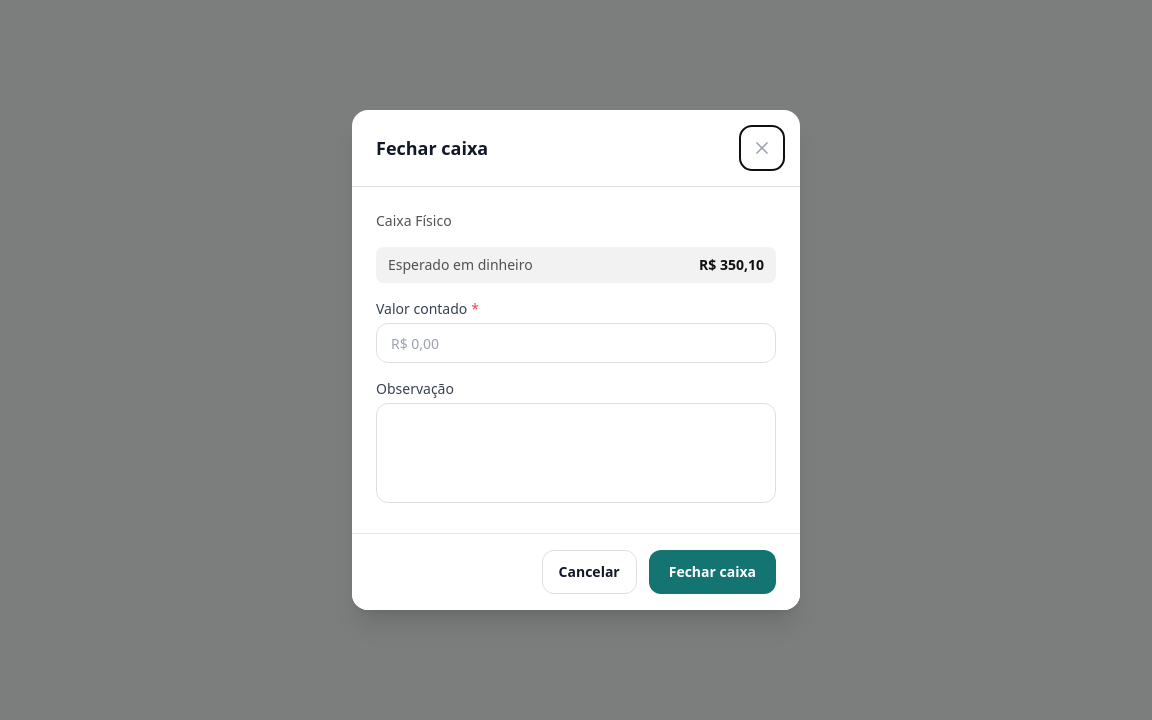
Test: CloseCashSessionModal › não fecha sem o valor contado
The image size is (1152, 720).
What coordinates should you click on to do the following:
click the button "Fechar caixa"
I would click on:
 (712, 572)
Its box is [649,550,776,594].
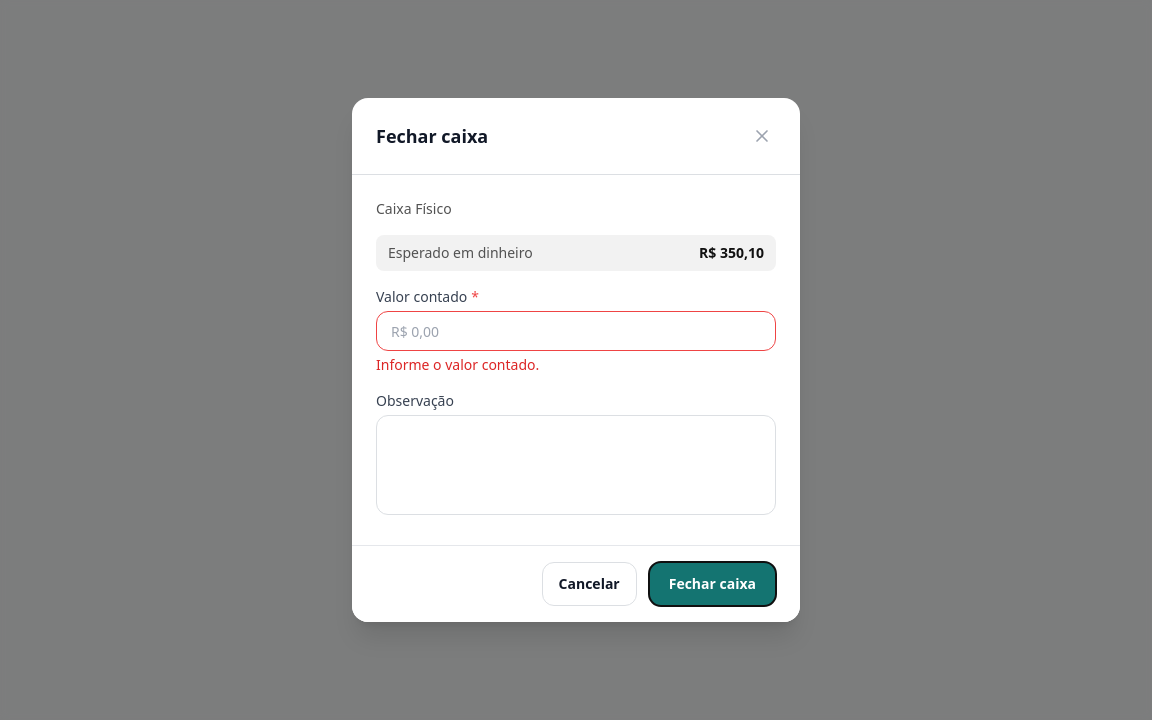
Now the text "Informe o valor contado." is shown, box [376,355,539,374]
